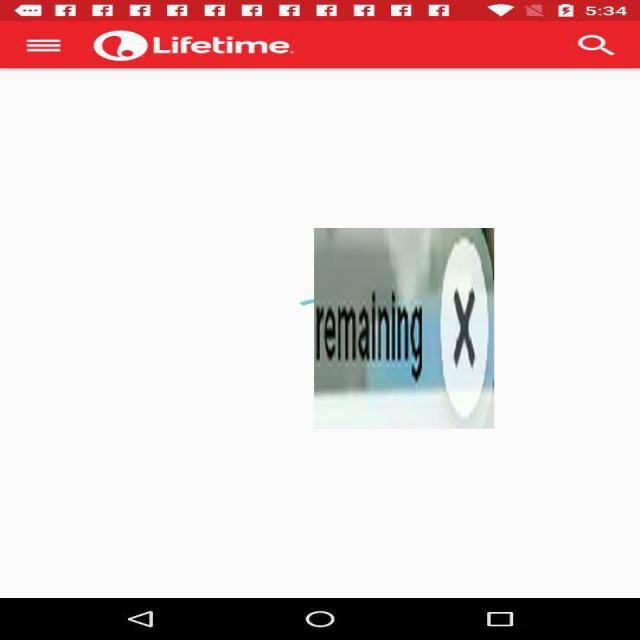misdirection: (314, 228, 494, 429)
